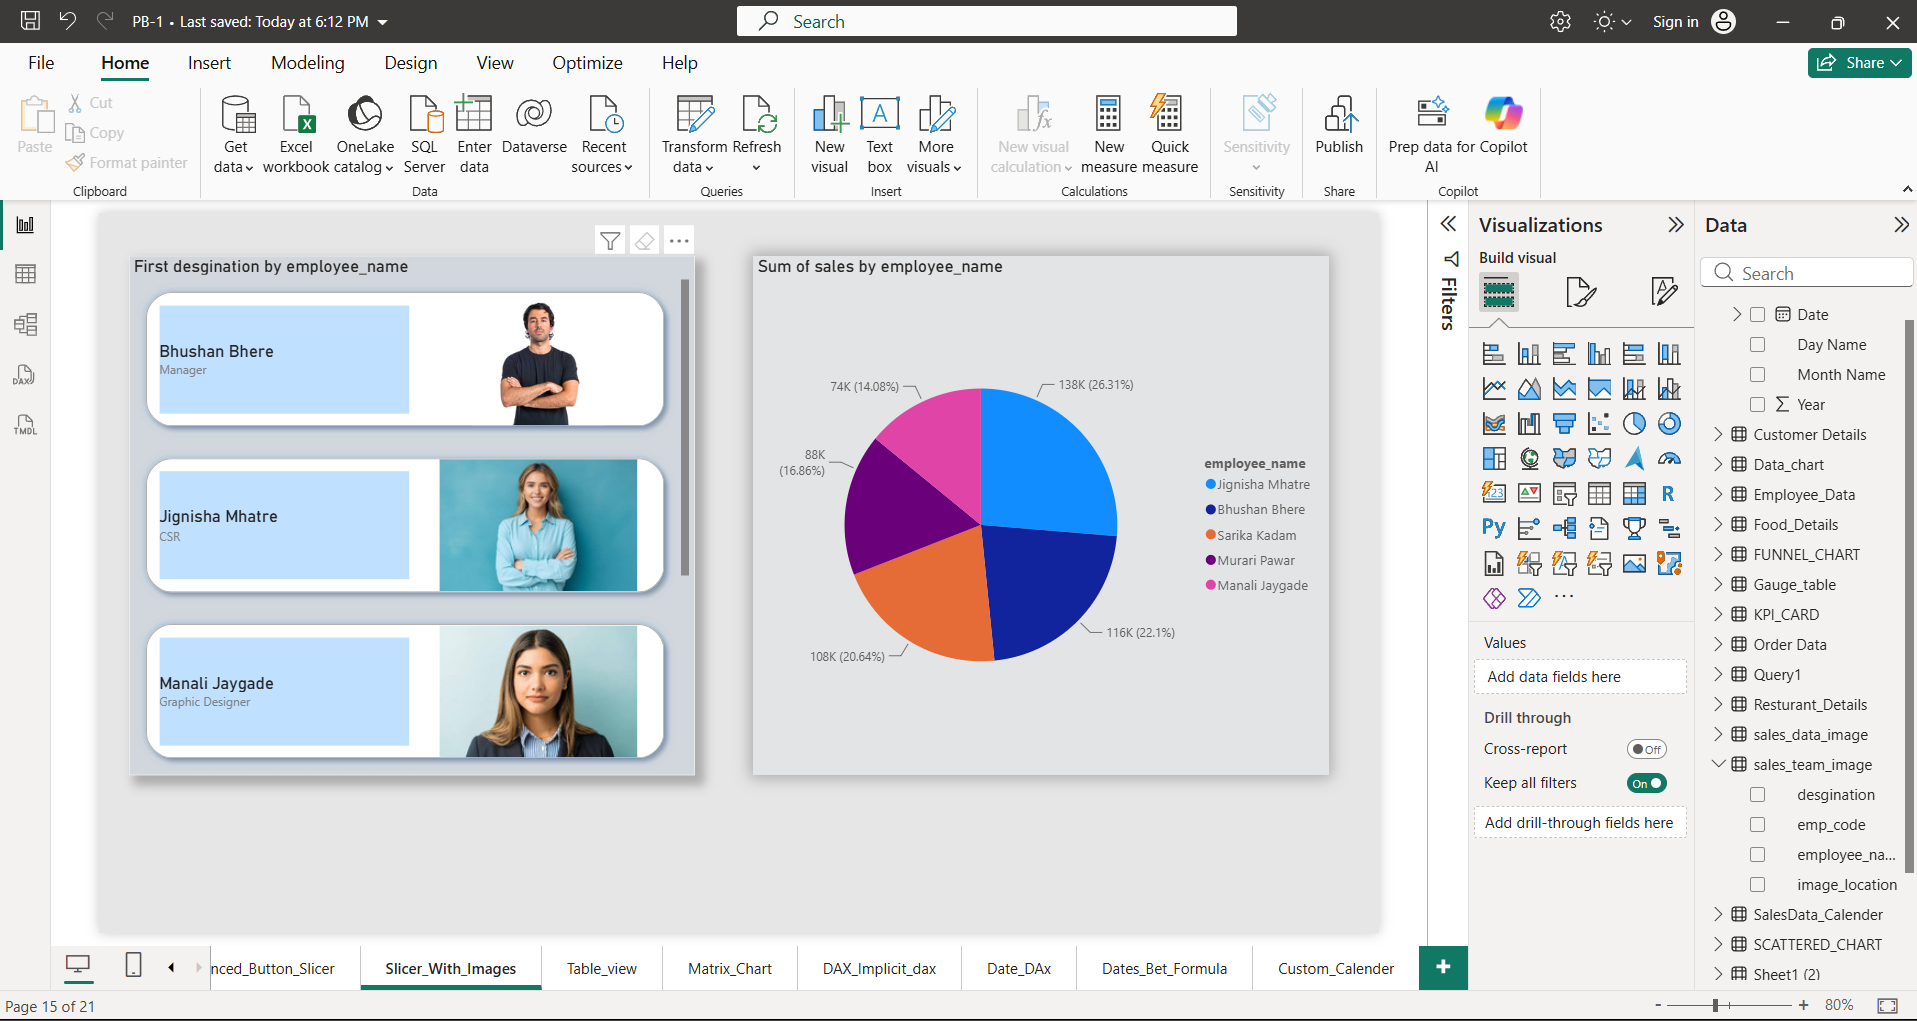

The dashboard page shown, as its layout file describes it:
{"tool":"powerbi","page":{"name":"Slicer_With_Images","canvas":[1280,720],"ordinal":14},"visuals":[{"type":"pieChart","fields":{"Category":["sales_team_image.employee_name"],"Y":["Sum(sales_data_image.sales)"]},"box":[654.3,42.9,575.7,520],"z":0},{"type":"advancedSlicerVisual","fields":{"Label":["Min(sales_team_image.desgination)"],"Values":["sales_team_image.employee_name"]},"box":[30,42.9,565.7,520],"z":1000}]}

Visuals, with their boxes on the page's 1280x720 design canvas (x1, y1, x2, y2). These are canvas units, not pixel positions in the 1917x1021 screenshot, which may show the page scaled, cropped or inside an application window:
pieChart - sales_team_image.employee_name x Sum(sales_data_image.sales): <region>654, 43, 1230, 563</region>
advancedSlicerVisual - Min(sales_team_image.desgination) x sales_team_image.employee_name: <region>30, 43, 596, 563</region>
